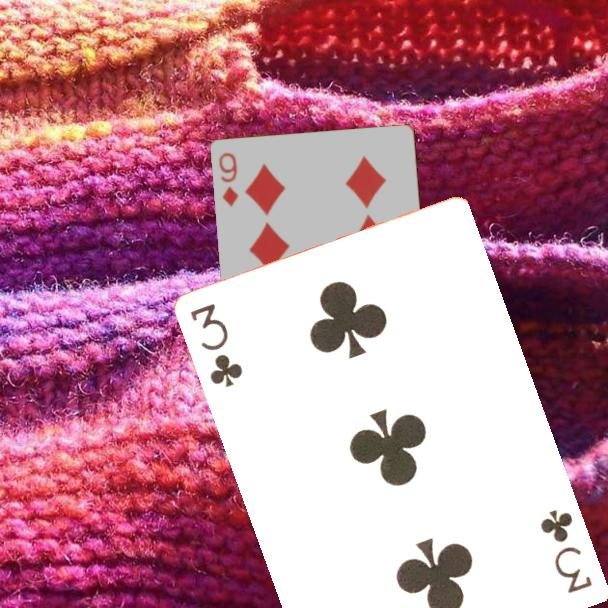c03: (187, 300, 247, 391), (537, 506, 596, 597)
d09: (215, 149, 241, 210)
